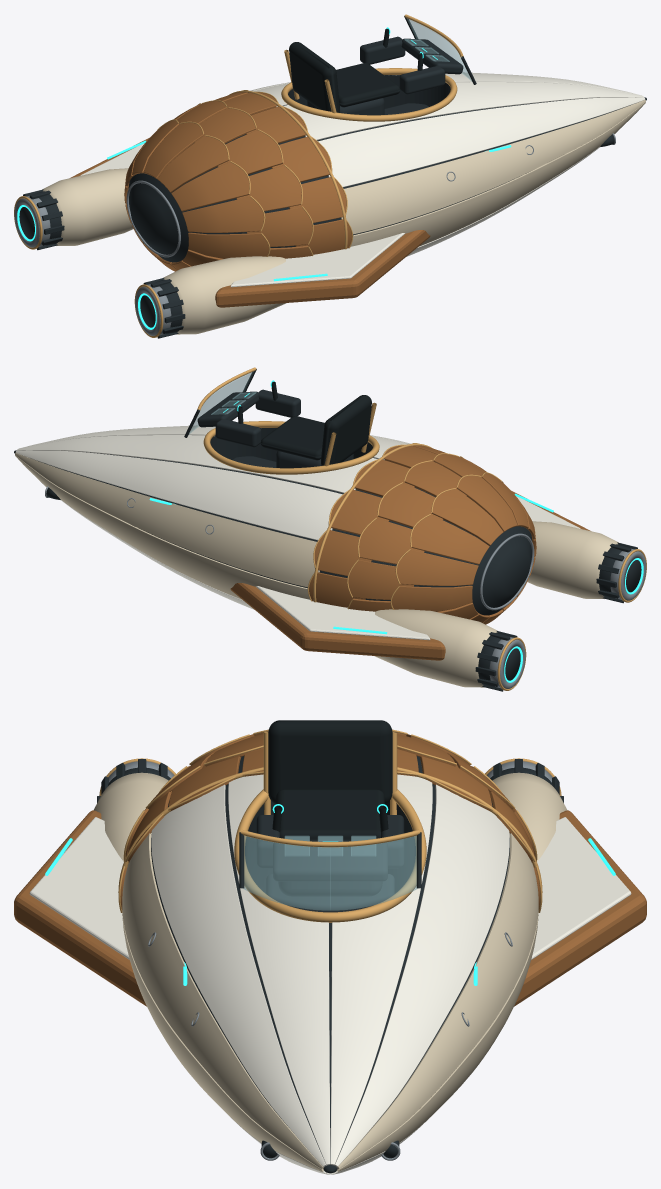
File: AcornShipCandidate.glb
3 renders of one model, top to bottom at view 1: azimuth 30°, elevation 25°; view 2: azimuth 150°, elevation 25°; view 3: azimuth 270°, elevation 25°, orthographic. The views are drawn at different scales.
Visible parts, largest first — view 1: SM_AcornShipCandidate; view 2: SM_AcornShipCandidate; view 3: SM_AcornShipCandidate.
Boxes of the visible parts, x1,y1,x2,y2 form: SM_AcornShipCandidate: (14, 14, 646, 338); SM_AcornShipCandidate: (14, 367, 646, 691); SM_AcornShipCandidate: (14, 720, 646, 1174).
Size of the model in its own units: 4.55 by 1.63 by 2.86.
